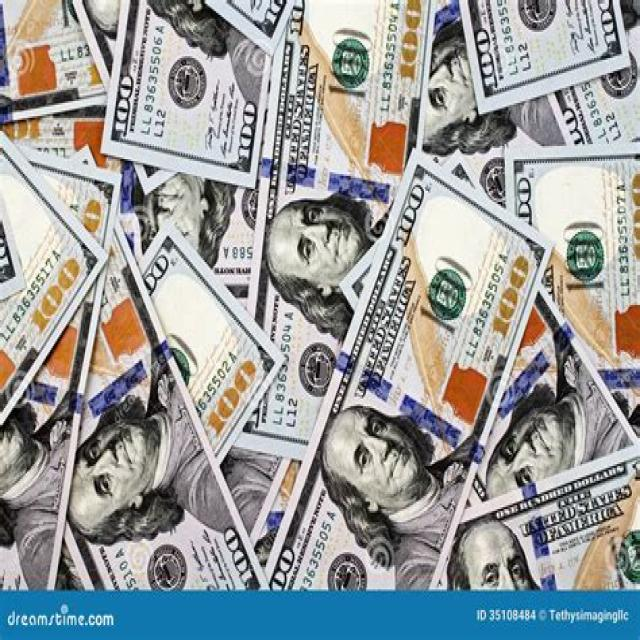Hundred: (264, 151, 553, 589), (235, 0, 435, 455), (58, 214, 270, 588), (0, 150, 121, 590), (504, 140, 640, 443), (101, 0, 272, 188), (422, 442, 639, 590), (0, 136, 107, 427), (463, 0, 623, 107)
